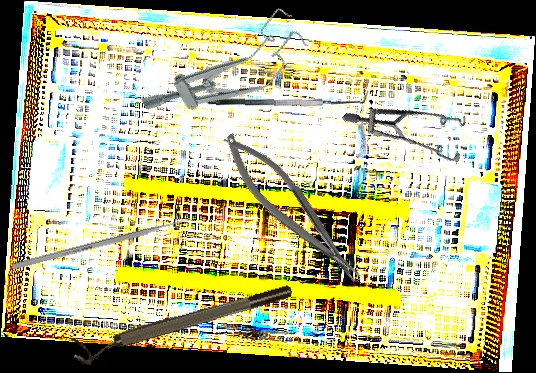Fixation Ring: (69, 280, 297, 369)
Needle Holder: (213, 121, 369, 297)
Pusher: (11, 214, 198, 271)
Spatula Surgical: (206, 84, 370, 111)
Speculum: (134, 3, 317, 144), (341, 55, 485, 198)
